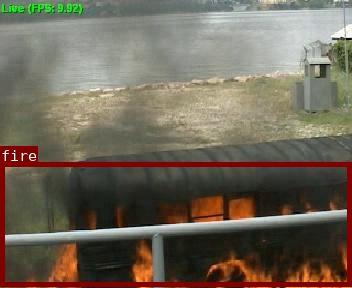fire: (0, 162, 350, 285)
